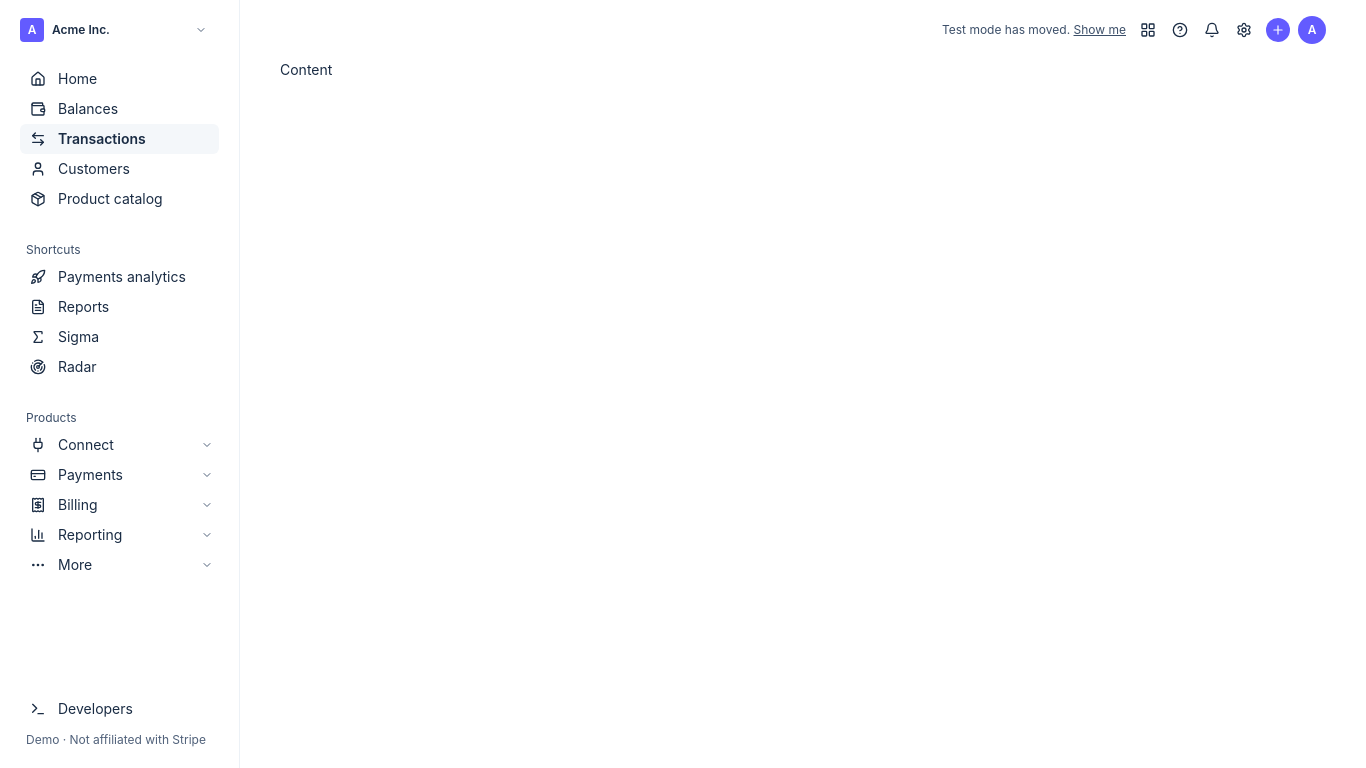
AppShell › opens the account menu with the disclaimer
Click the button named "Account menu" at (1312, 30), box [1298, 16, 1326, 44]
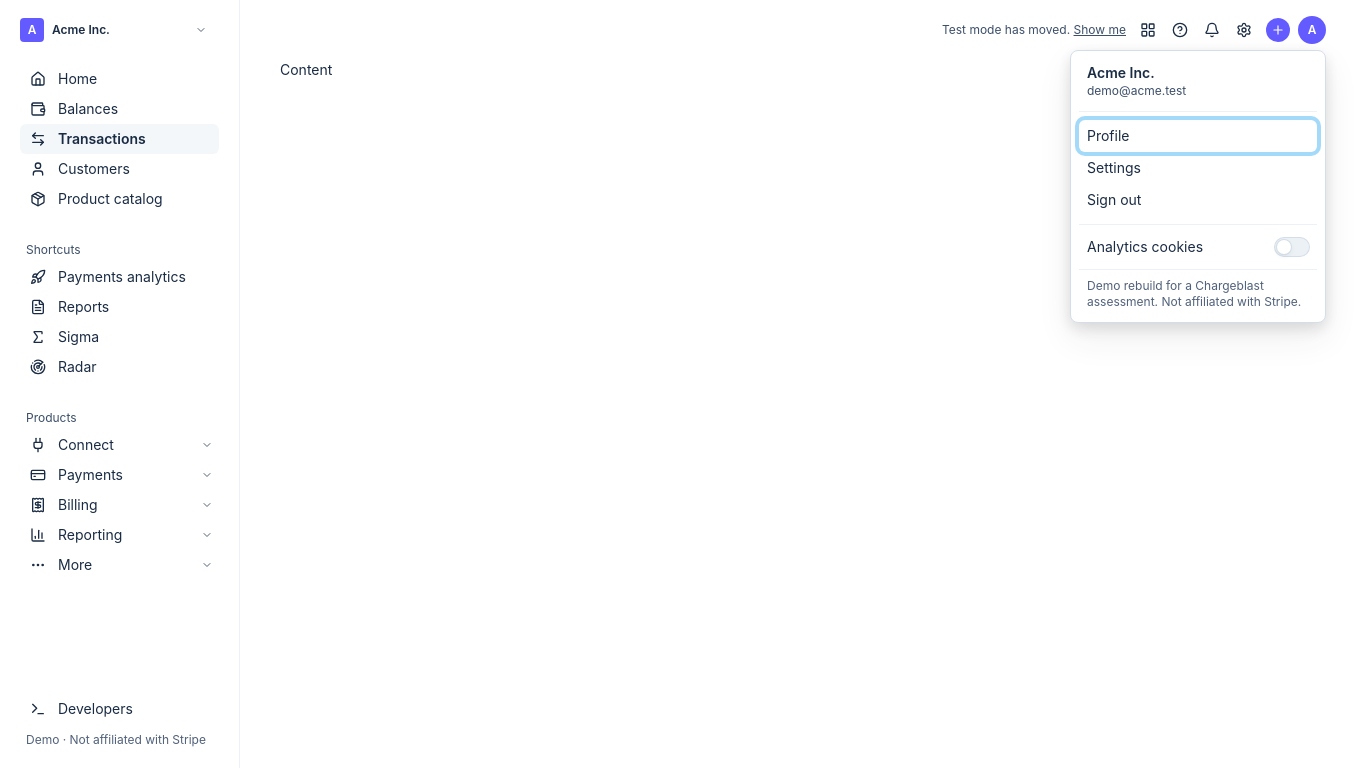
Expected: the text "demo@acme.test" is shown, [1087, 83, 1186, 98]
Expected: the text "Demo rebuild for a Chargeblast assessment. Not affiliated with Stripe." is shown, [1079, 278, 1317, 314]
Expected: the button "Sign out" is shown, [1079, 184, 1317, 216]
